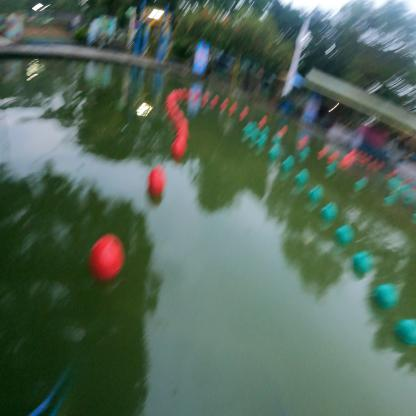green_buoy: (374, 281, 399, 312), (394, 315, 415, 347), (351, 252, 367, 274), (334, 226, 347, 243), (318, 207, 331, 222), (308, 189, 318, 203), (280, 161, 289, 174), (266, 152, 276, 162), (294, 175, 303, 185), (254, 140, 263, 149)
red_buoy: (90, 232, 124, 285), (148, 168, 166, 196), (172, 141, 186, 160)
